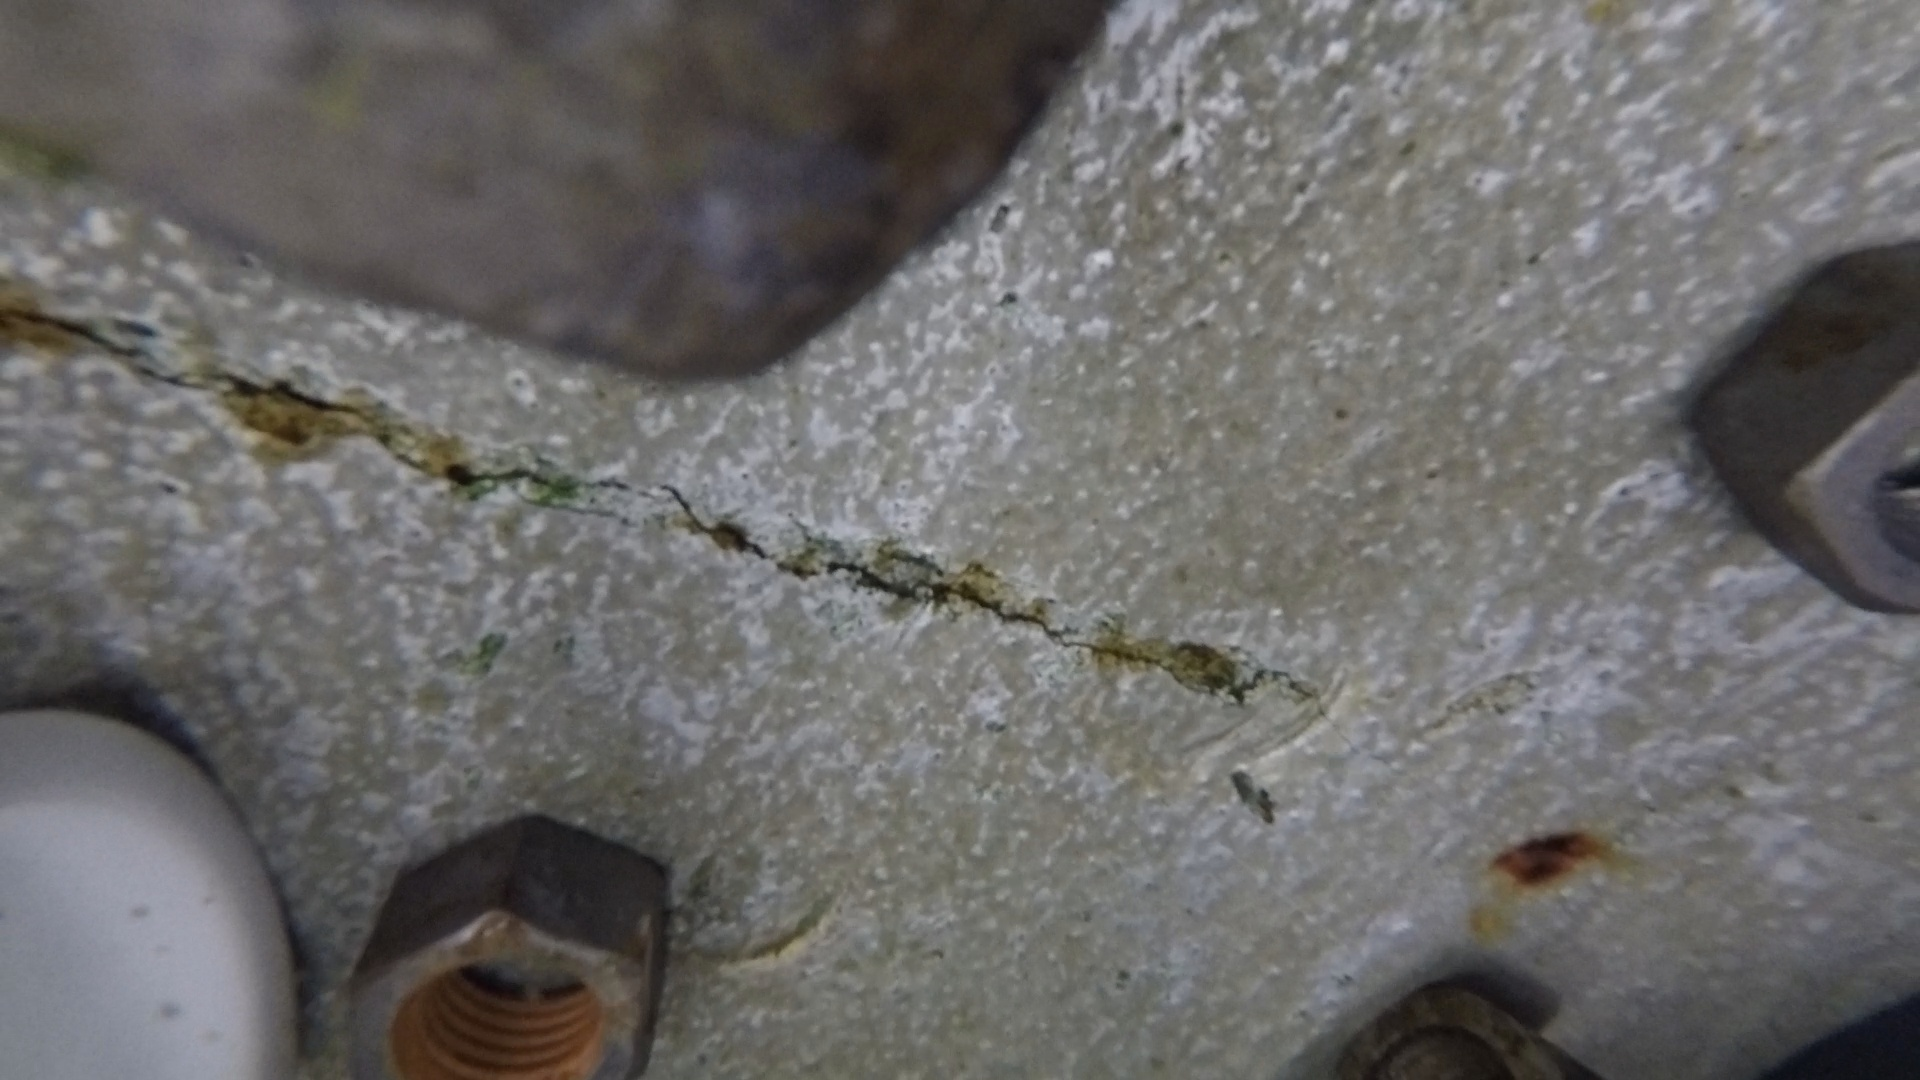led_block: (1, 1, 1116, 382)
nut: (1687, 239, 1920, 618), (345, 814, 669, 1080), (1327, 984, 1610, 1080)
pipe: (3, 705, 301, 1080)
